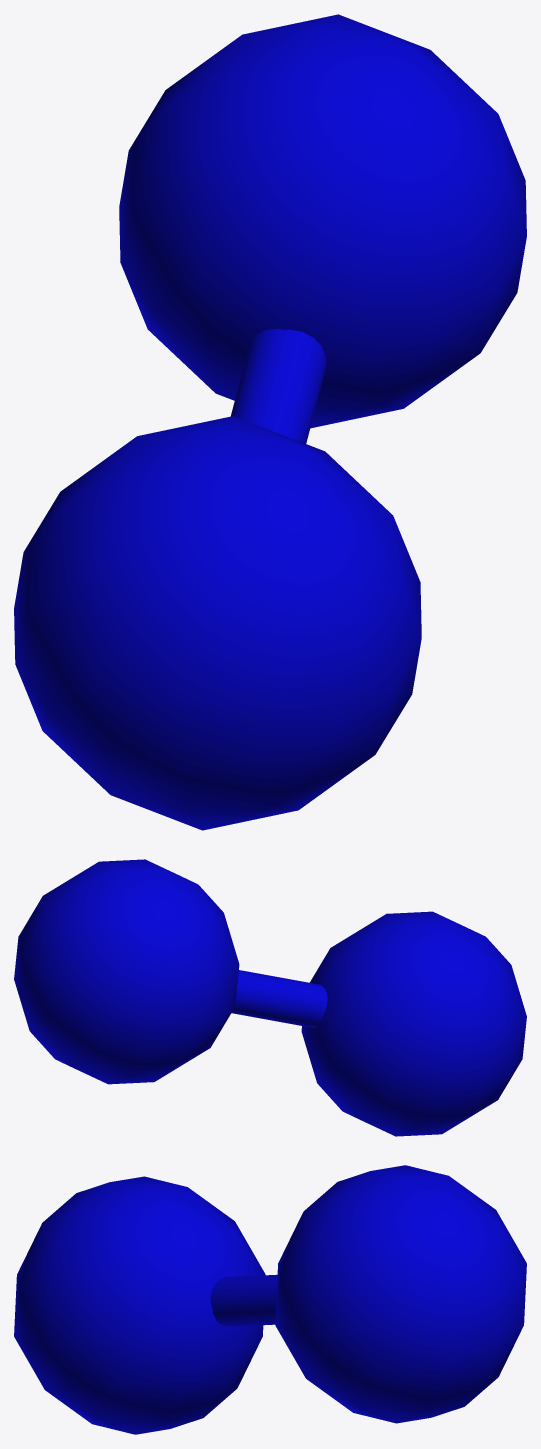
3 views of the same model, one above another, from view 1: azimuth 30°, elevation 25°; view 2: azimuth 150°, elevation 25°; view 3: azimuth 270°, elevation 25° (orthographic). The views are drawn at different scales.
Parts seen in each view (by area): view 1: vmd_mol0_rep0; view 2: vmd_mol0_rep0; view 3: vmd_mol0_rep0.
Boxes of the visible parts, x1,y1,x2,y2 form: vmd_mol0_rep0: [14, 14, 526, 830]; vmd_mol0_rep0: [14, 859, 526, 1136]; vmd_mol0_rep0: [14, 1165, 526, 1434].
Bounding box in the file's own units: 0.7147 × 0.5632 × 0.7666.
